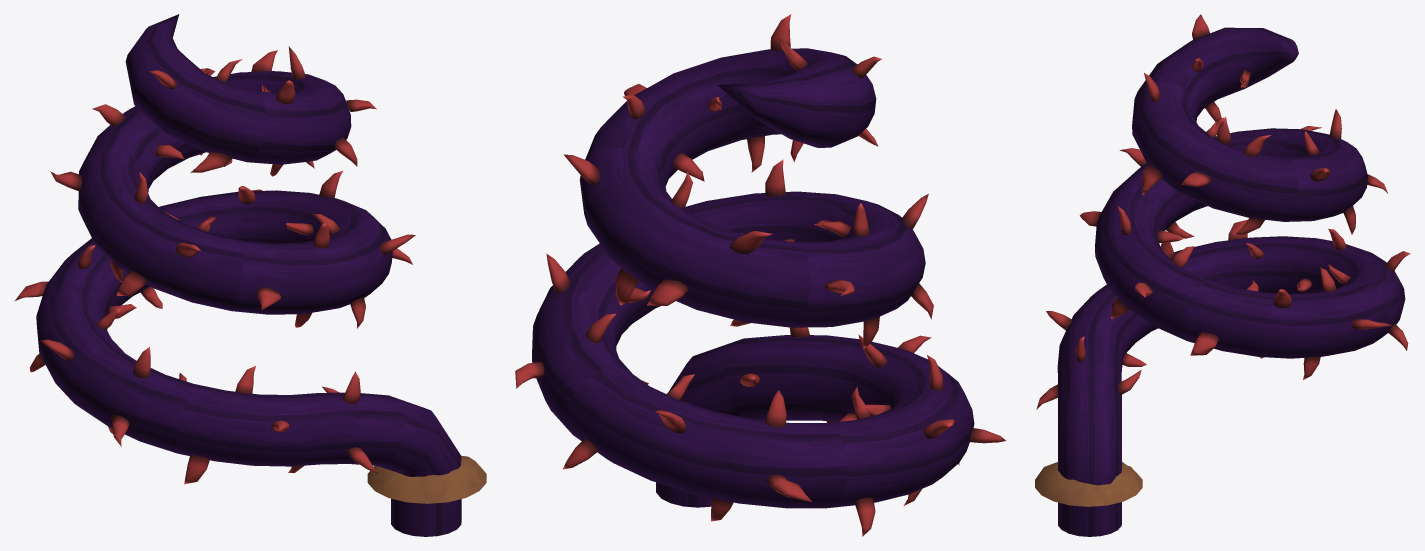
File: Vine_Billboard.FBX
3 views of the same model, side by side, from view 1: azimuth 30°, elevation 25°; view 2: azimuth 150°, elevation 25°; view 3: azimuth 270°, elevation 25° (orthographic). The views are drawn at different scales.
Parts seen in each view (by area): view 1: Taint_Vine, Dirt_Mound; view 2: Taint_Vine; view 3: Taint_Vine, Dirt_Mound.
Part boxes in pixels (<box>): Taint_Vine: <box>14,14,461,536</box>; Dirt_Mound: <box>367,455,486,503</box>; Taint_Vine: <box>515,14,1005,536</box>; Taint_Vine: <box>1036,14,1410,536</box>; Dirt_Mound: <box>1035,462,1142,506</box>.
Bounding box in the file's own units: 196 × 245 × 201.
Materials: 3 (3 with a texture image).
